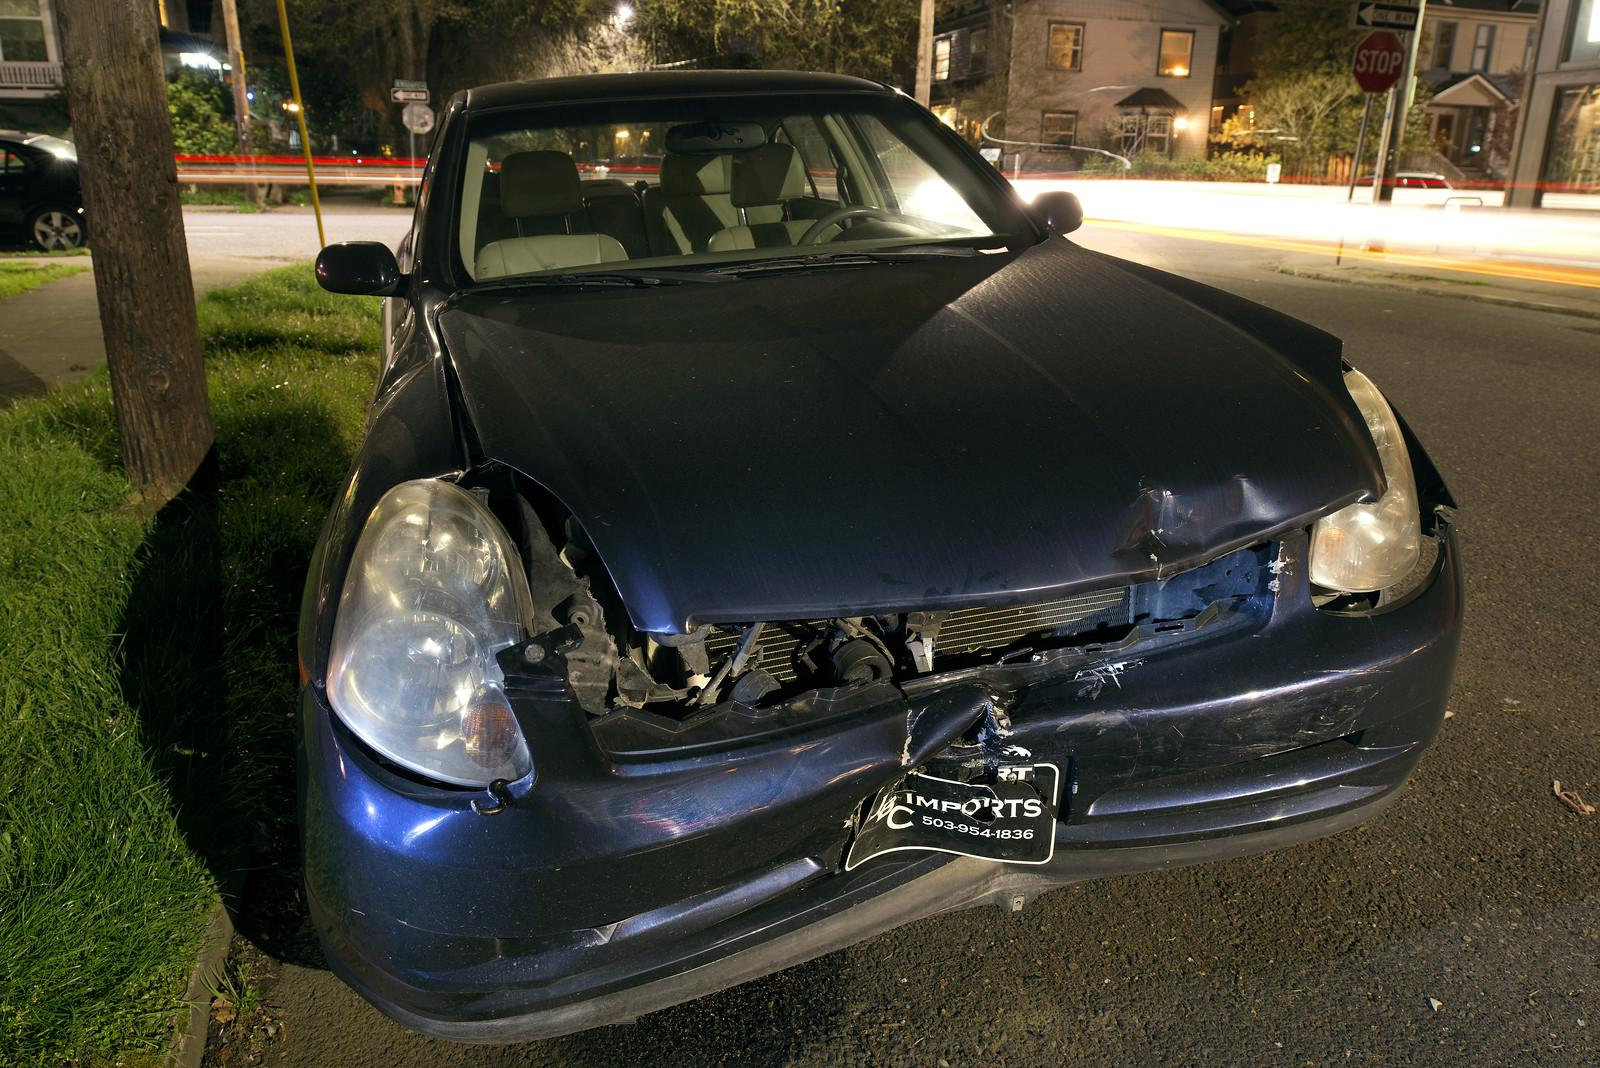Headlight-Damage: (315, 462, 704, 780), (1231, 373, 1503, 623)
bonnet-dent: (438, 280, 1366, 573)
front-bumper-dent: (528, 590, 1369, 960)
